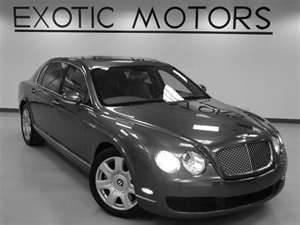car: (17, 53, 292, 217)
